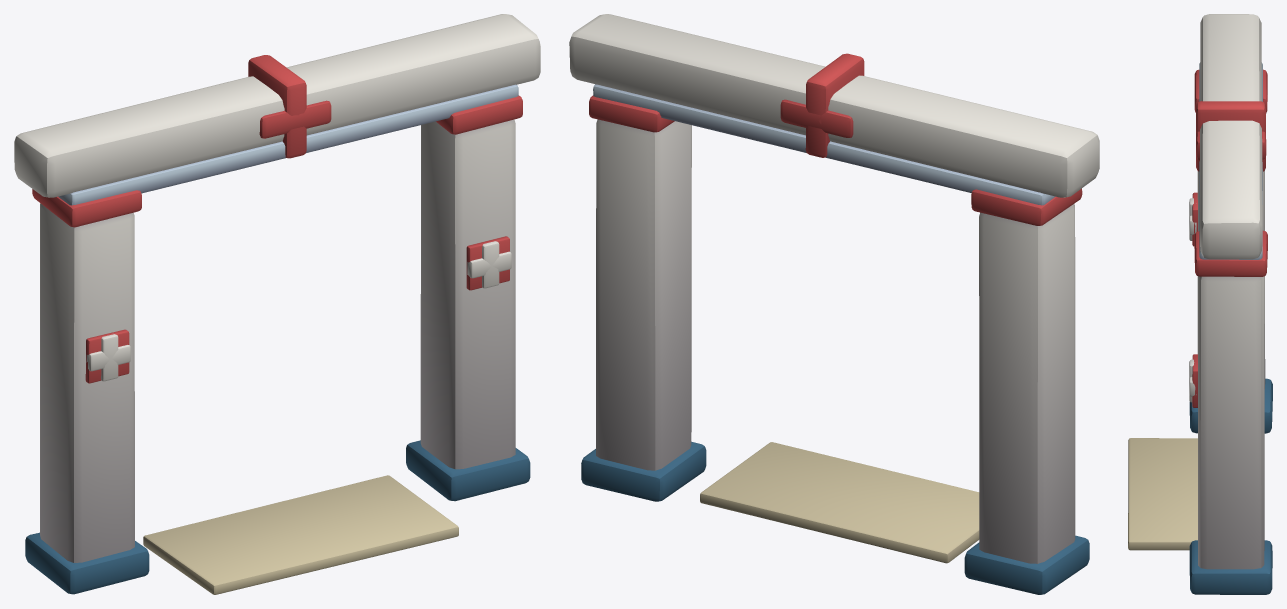
The picture shows the model from 3 angles, left to right: view 1: azimuth 30°, elevation 25°; view 2: azimuth 150°, elevation 25°; view 3: azimuth 270°, elevation 25°; orthographic projection. The views are drawn at different scales.
Visible parts, largest first — view 1: gate_f991139b; view 2: gate_f991139b; view 3: gate_f991139b.
Part boxes in pixels (box(x1,y1,x2,y2)): gate_f991139b: box(14, 14, 540, 594); gate_f991139b: box(569, 14, 1099, 594); gate_f991139b: box(1128, 14, 1272, 594).
Size of the model in its own units: 4.87 by 4.24 by 1.41.
